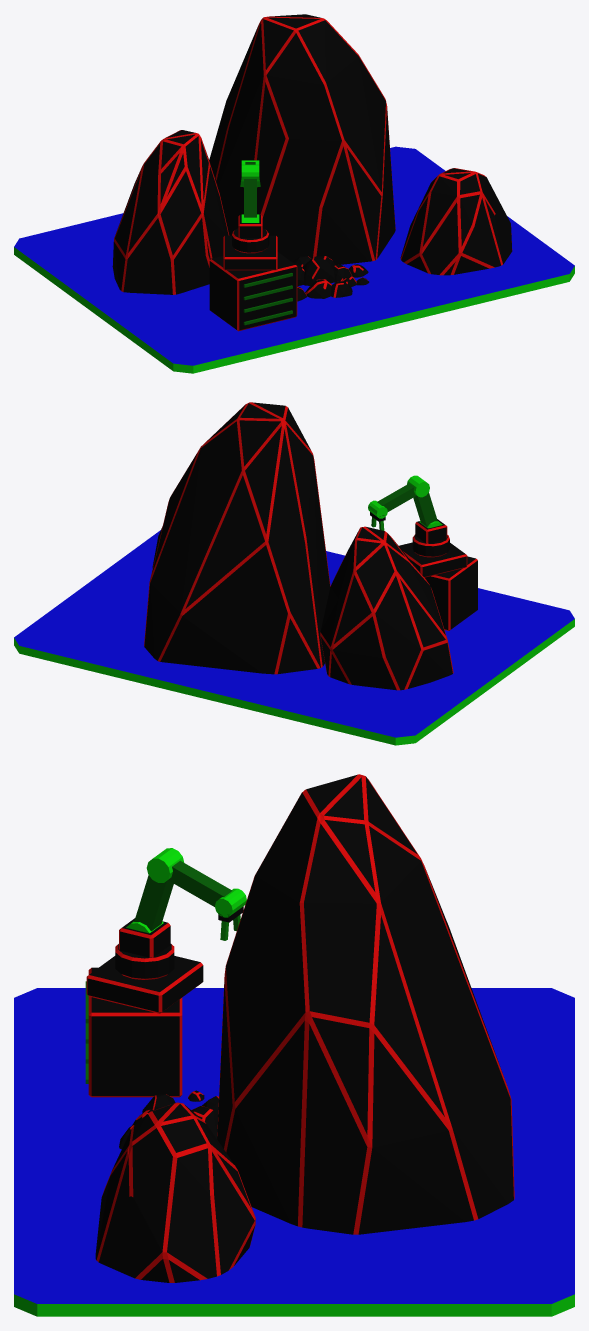
File: SM_Holo_OreMine_T1.fbx
3 views of the same model, one above another, from view 1: azimuth 30°, elevation 25°; view 2: azimuth 150°, elevation 25°; view 3: azimuth 270°, elevation 25° (orthographic). The views are drawn at different scales.
Visible parts, largest first — view 1: SM_Holo_OreMine_T1; view 2: SM_Holo_OreMine_T1; view 3: SM_Holo_OreMine_T1.
Part boxes in pixels (x1,y1,x2,y2): SM_Holo_OreMine_T1: (14,14,574,373); SM_Holo_OreMine_T1: (14,402,574,745); SM_Holo_OreMine_T1: (14,774,574,1316).
Bounding box in the file's own units: 16 × 8.91 × 12.
